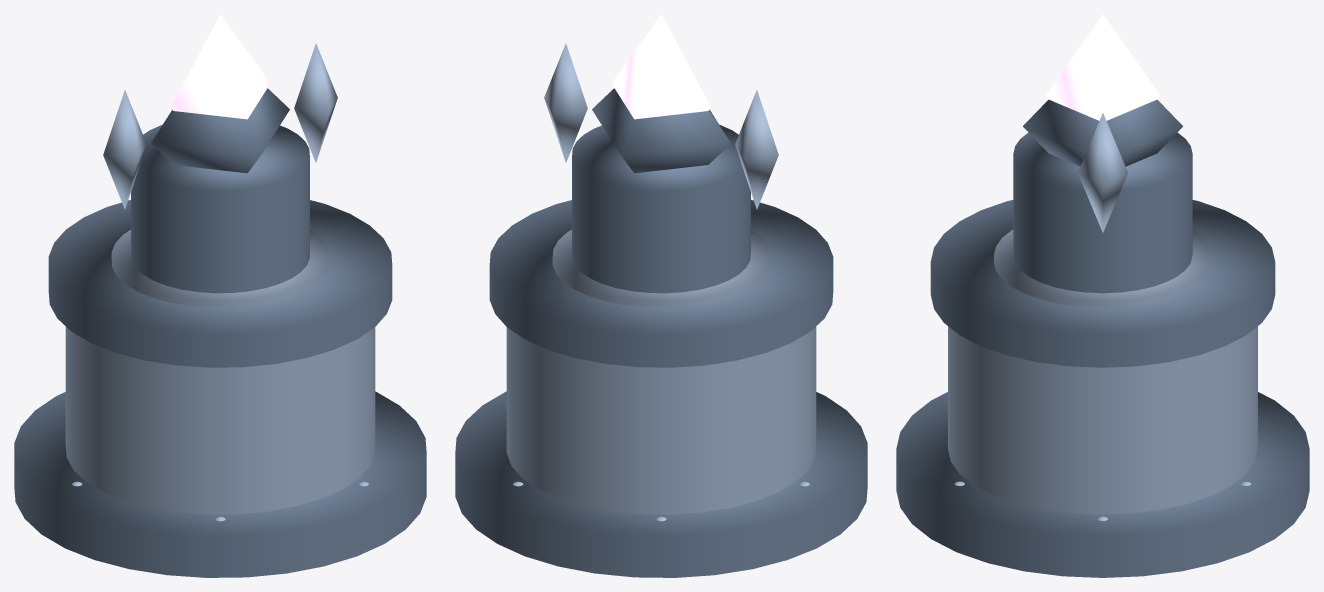
Rendered from lightning_l4.glb.
3 renders of one model, left to right at view 1: azimuth 30°, elevation 25°; view 2: azimuth 150°, elevation 25°; view 3: azimuth 270°, elevation 25°, orthographic.
Visible parts, largest first — view 1: base, footing, baseCollar, shaft, support, spinCrystal, lowerTrim, shardL, shardR; view 2: base, footing, baseCollar, shaft, support, spinCrystal, lowerTrim, shardL, shardR; view 3: base, footing, baseCollar, shaft, spinCrystal, support, lowerTrim, shardR.
Part boxes in pixels (left/top/right/bottom): base: left=65, top=326, right=375, bottom=514; footing: left=14, top=391, right=426, bottom=577; baseCollar: left=48, top=200, right=392, bottom=367; shaft: left=131, top=124, right=309, bottom=293; support: left=151, top=88, right=289, bottom=173; spinCrystal: left=171, top=14, right=269, bottom=119; lowerTrim: left=111, top=229, right=329, bottom=307; shardL: left=103, top=90, right=146, bottom=209; shardR: left=294, top=43, right=337, bottom=162; base: left=506, top=326, right=816, bottom=514; footing: left=455, top=391, right=867, bottom=577; baseCollar: left=489, top=200, right=833, bottom=367; shaft: left=572, top=124, right=750, bottom=293; support: left=592, top=88, right=730, bottom=173; spinCrystal: left=612, top=14, right=710, bottom=119; lowerTrim: left=552, top=229, right=770, bottom=307; shardL: left=735, top=90, right=778, bottom=209; shardR: left=544, top=43, right=587, bottom=162; base: left=948, top=326, right=1257, bottom=514; footing: left=896, top=392, right=1309, bottom=577; baseCollar: left=930, top=200, right=1275, bottom=367; shaft: left=1013, top=132, right=1192, bottom=293; spinCrystal: left=1045, top=14, right=1160, bottom=120; support: left=1023, top=99, right=1182, bottom=166; lowerTrim: left=994, top=229, right=1211, bottom=307; shardR: left=1078, top=113, right=1127, bottom=232.
Bounding box in the file's own units: 1.8 × 2.29 × 1.8.
